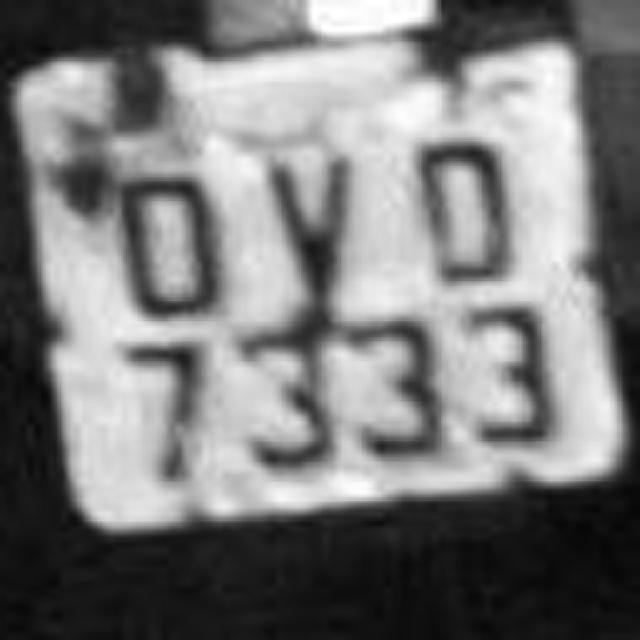3: (196, 304, 369, 488), (424, 280, 584, 460), (316, 296, 469, 476)
7: (96, 312, 232, 508)
O: (92, 140, 248, 335), (395, 120, 540, 295)
Y: (236, 132, 376, 320)
